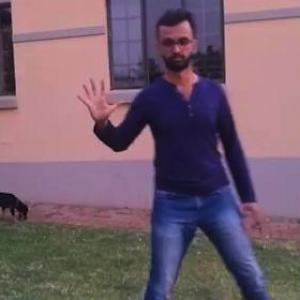follow_hand: (74, 73, 123, 124)
